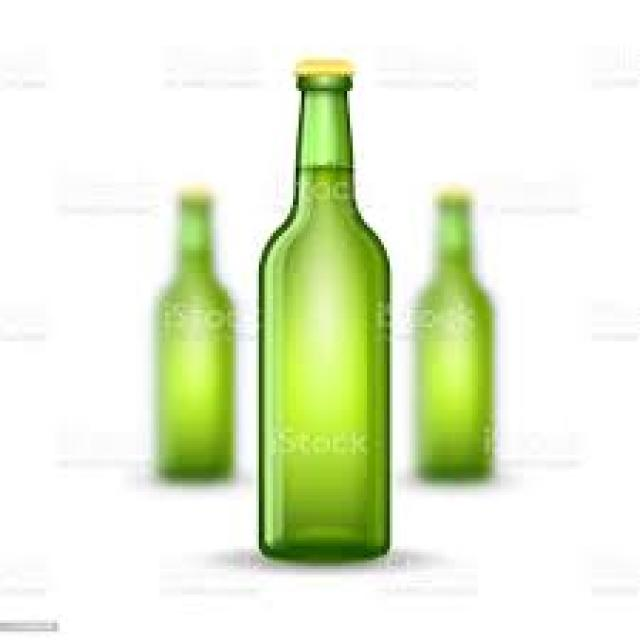glass: (256, 60, 387, 555), (413, 190, 490, 478), (157, 193, 231, 478)
metal: (290, 54, 350, 71)
